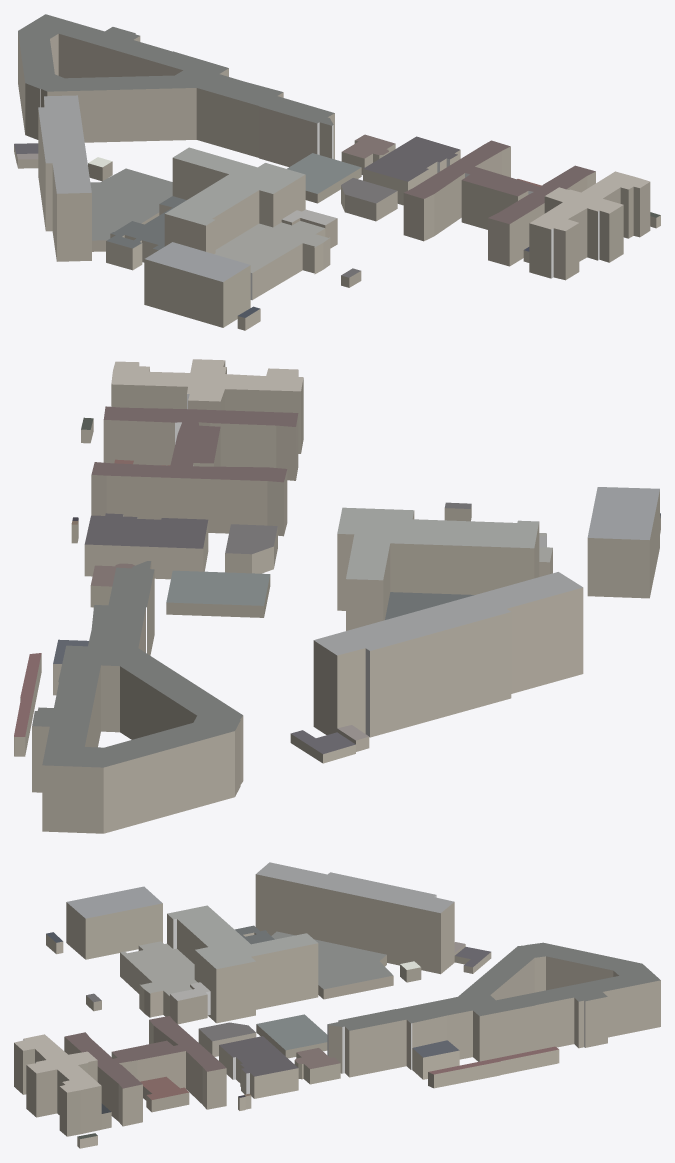
3 renders of one model, top to bottom at view 1: azimuth 30°, elevation 25°; view 2: azimuth 150°, elevation 25°; view 3: azimuth 270°, elevation 25°, orthographic. The views are drawn at different scales.
Parts seen in each view (by area): view 1: tuile; view 2: tuile; view 3: tuile.
Boxes of the visible parts, box(x1,y1,x2,y2) form: tuile: box(14, 14, 660, 330); tuile: box(14, 359, 660, 833); tuile: box(14, 862, 660, 1148).
Bounding box in the file's own units: 265 × 43.01 × 332.
